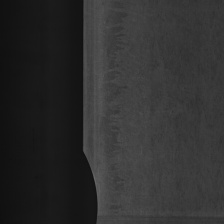crescent_gap: (79, 135, 104, 224)
